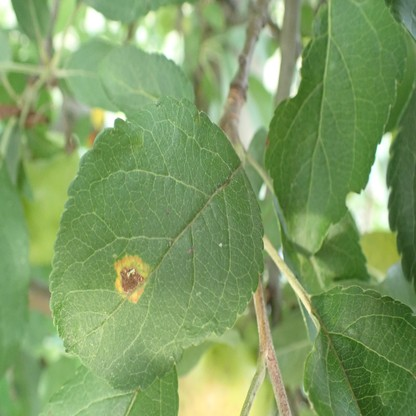rust: (114, 254, 150, 304)
